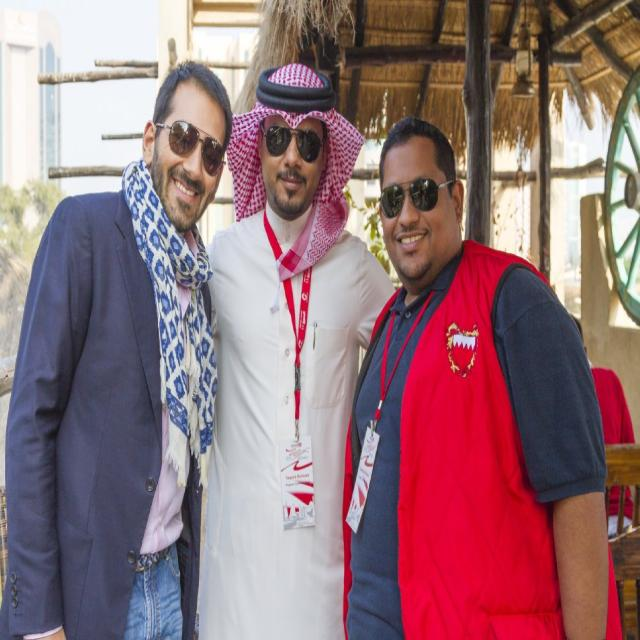body: (343, 113, 628, 639), (0, 59, 234, 638), (194, 59, 396, 639), (570, 312, 636, 538)
